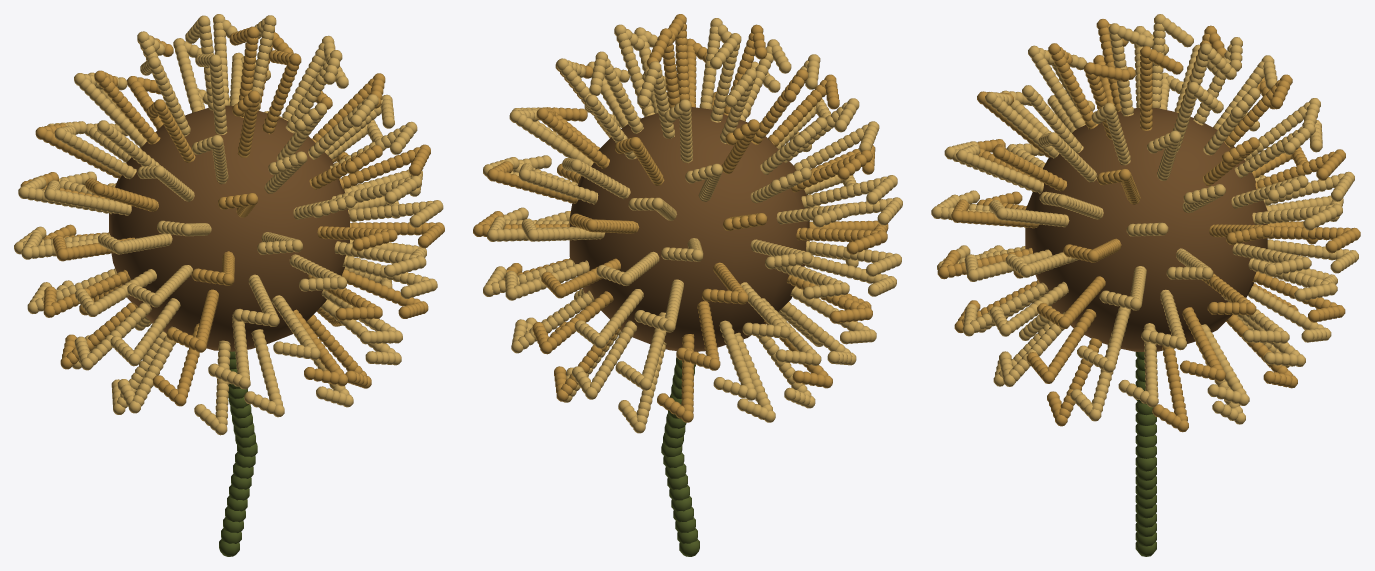
File: burr.glb
3 renders of one model, left to right at view 1: azimuth 30°, elevation 25°; view 2: azimuth 150°, elevation 25°; view 3: azimuth 270°, elevation 25°, orthographic.
Visible parts, largest first — view 1: burr; view 2: burr; view 3: burr.
Boxes of the visible parts, x1,y1,x2,y2 form: burr: [14, 14, 444, 556]; burr: [473, 14, 902, 556]; burr: [931, 14, 1360, 556].
Bounding box in the file's own units: 1.34 × 1.79 × 1.34.
